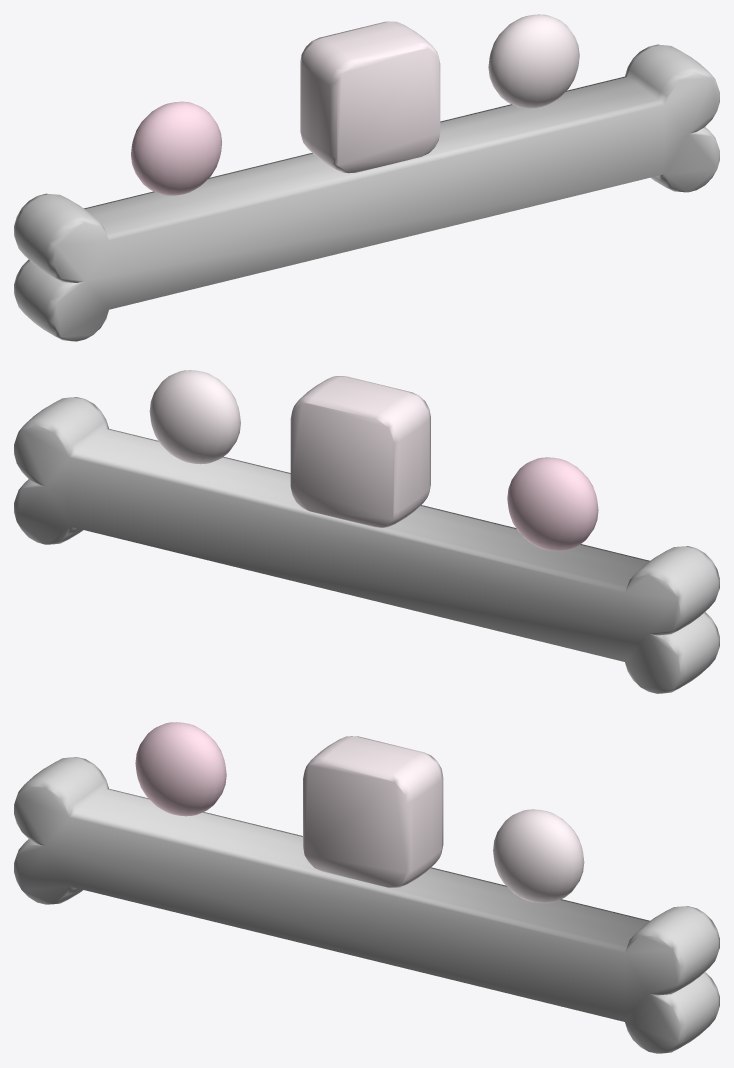
Rendered from decor_5_candy.glb.
3 views of the same model, one above another, from view 1: azimuth 30°, elevation 25°; view 2: azimuth 150°, elevation 25°; view 3: azimuth 330°, elevation 25° (orthographic).
Parts seen in each view (by area): view 1: decor_5_candy; view 2: decor_5_candy; view 3: decor_5_candy.
Part boxes in pixels (x1,y1,x2,y2): decor_5_candy: (14, 14, 719, 341); decor_5_candy: (14, 370, 719, 693); decor_5_candy: (14, 722, 719, 1053).
Size of the model in its own units: 14.33 by 4.35 by 1.45.
